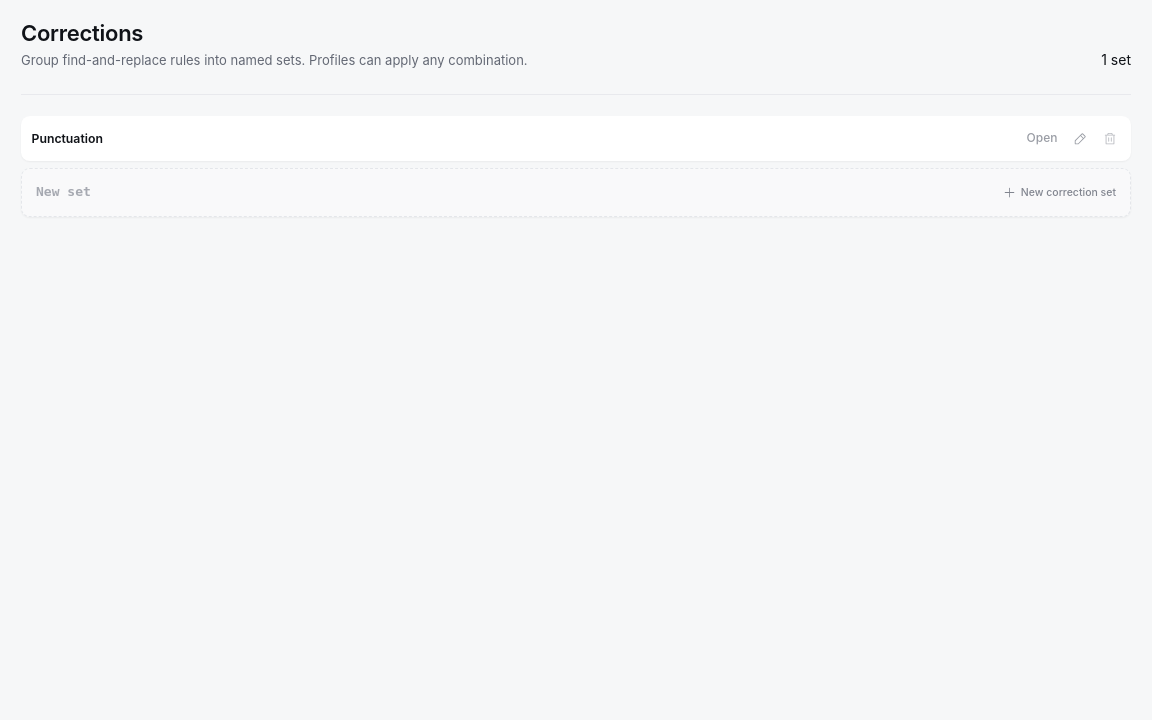
Test case: CorrectionsPage – corrections-specific › shows affected profile names from correction_set_ids
What coordinates should you click on to do the following:
click the button named "Delete set"
I would click on:
 (1110, 139)
Its box is [1096,125,1124,153].
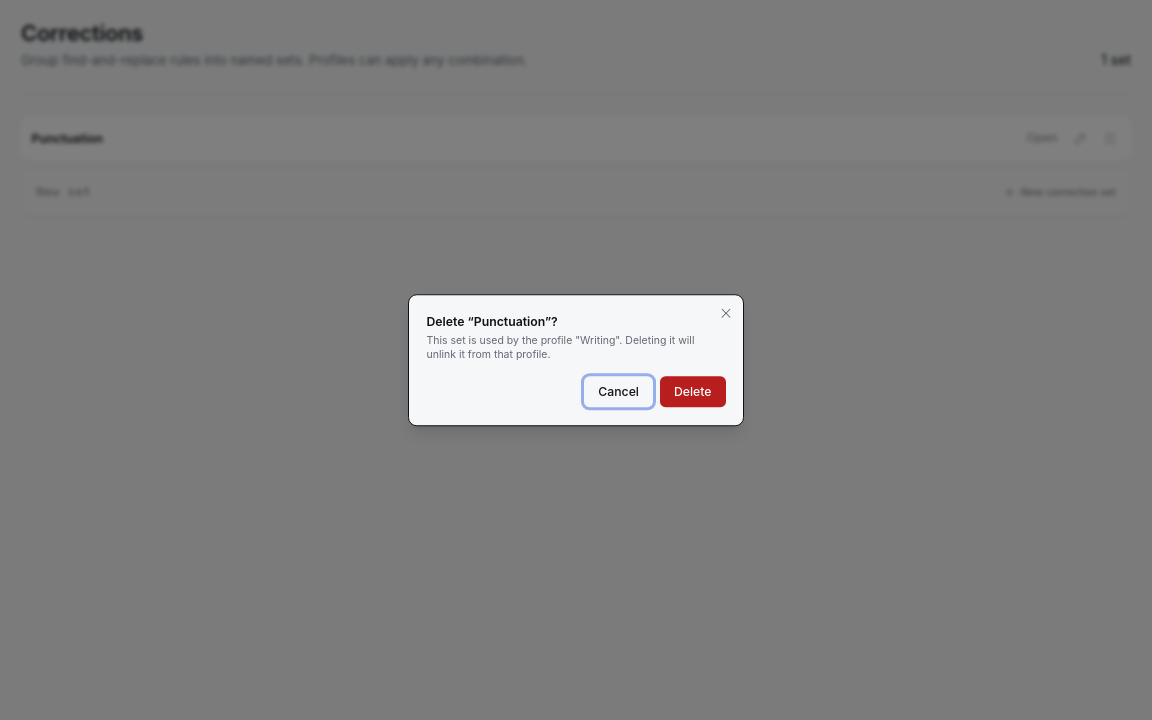
Result: the text "Writing" is shown at [522,334,619,347]
